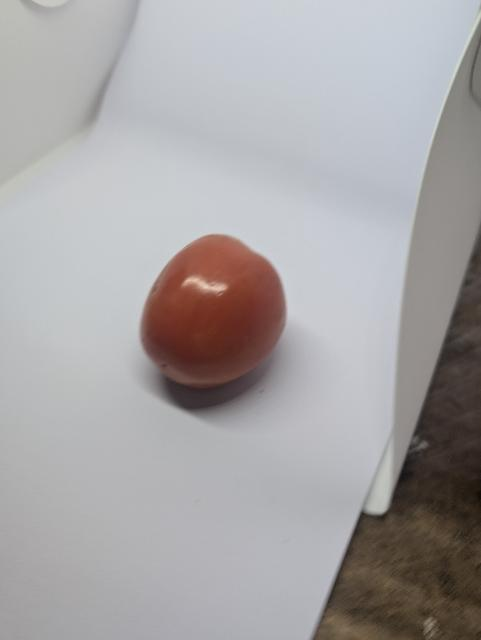red: (129, 224, 294, 396)
